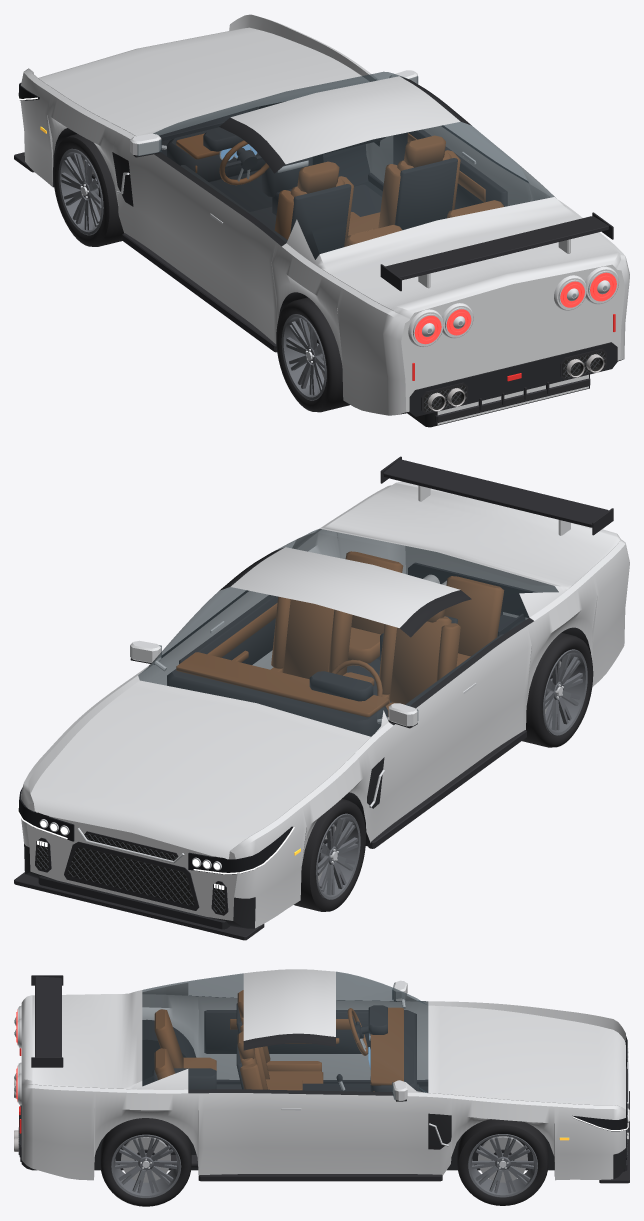
Rendered from raijin.glb.
3 views of the same model, one above another, from view 1: azimuth 30°, elevation 25°; view 2: azimuth 150°, elevation 25°; view 3: azimuth 270°, elevation 25° (orthographic). The views are drawn at different scales.
Visible parts, largest first — view 1: body, RJ_ExteriorCabin, wheel_RL, wheel_FL; view 2: body, RJ_ExteriorCabin, wheel_RL, wheel_FL; view 3: body, RJ_ExteriorCabin, wheel_RR, wheel_FR.
Boxes of the visible parts, <box> form: body: <box>14,14,629,427</box>; RJ_ExteriorCabin: <box>167,127,507,259</box>; wheel_RL: <box>276,297,349,412</box>; wheel_FL: <box>53,134,123,246</box>; body: <box>14,456,629,940</box>; RJ_ExteriorCabin: <box>167,551,503,736</box>; wheel_RL: <box>522,632,593,747</box>; wheel_FL: <box>294,799,365,911</box>; body: <box>14,969,629,1183</box>; RJ_ExteriorCabin: <box>152,990,419,1167</box>; wheel_RR: <box>100,1118,191,1206</box>; wheel_FR: <box>457,1119,548,1205</box>.
Size of the model in its own units: 2.03 by 1.36 by 4.8.
